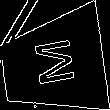M_W: (28, 37, 78, 91)
